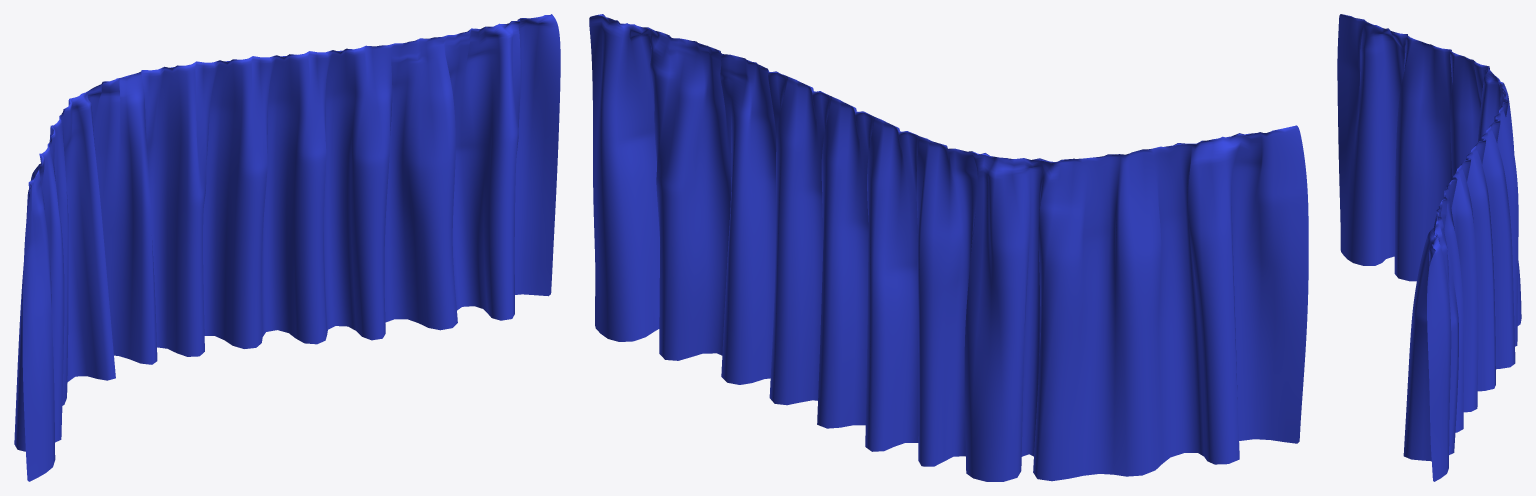
The model's file is vorhang lang austellung 1.fbx.
The picture shows the model from 3 angles, left to right: view 1: azimuth 30°, elevation 25°; view 2: azimuth 150°, elevation 25°; view 3: azimuth 270°, elevation 25°; orthographic projection. The views are drawn at different scales.
Parts seen in each view (by area): view 1: Plane; view 2: Plane; view 3: Plane.
Part boxes in pixels (x1,y1,x2,y2): Plane: [14, 14, 560, 481]; Plane: [589, 14, 1308, 481]; Plane: [1337, 14, 1521, 481].
Size of the model in its own units: 4.32 by 1.4 by 2.01.
